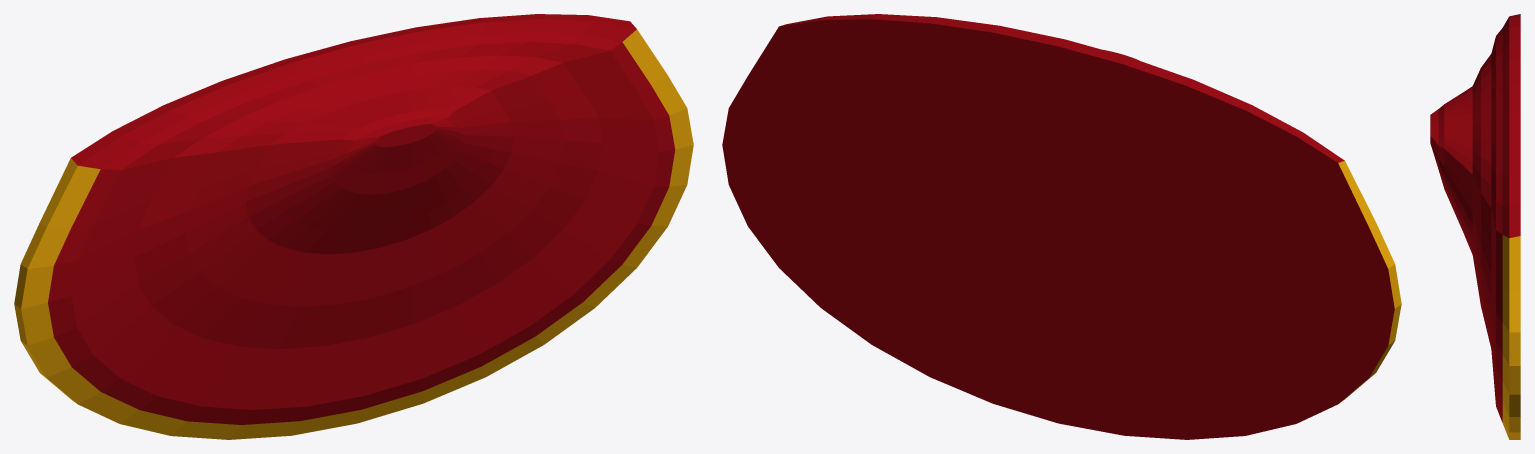
The model's file is CURTAIN3.fbx.
3 views of the same model, side by side, from view 1: azimuth 30°, elevation 25°; view 2: azimuth 150°, elevation 25°; view 3: azimuth 270°, elevation 25° (orthographic). The views are drawn at different scales.
Parts seen in each view (by area): view 1: Cube; view 2: Cube; view 3: Cube.
Boxes of the visible parts, x1,y1,x2,y2 form: Cube: (14,14,693,439); Cube: (722,14,1401,439); Cube: (1430,14,1520,439).
Size of the model in its own units: 3229 by 1739 by 461.
